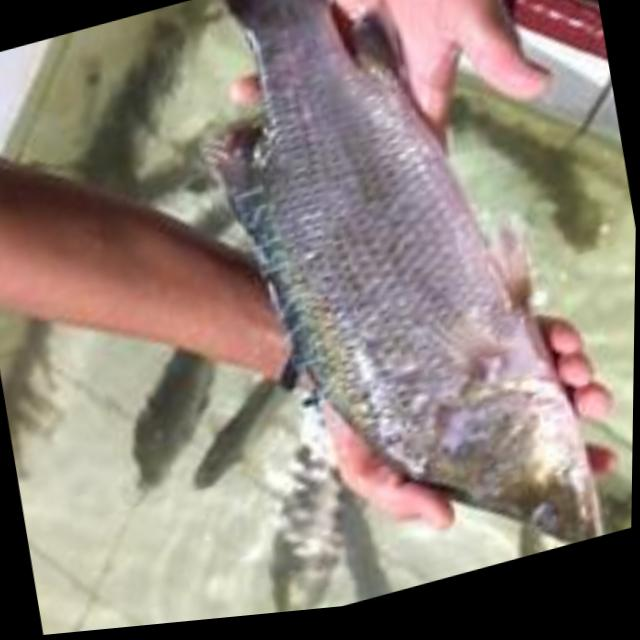Seabass: (175, 0, 613, 622)
